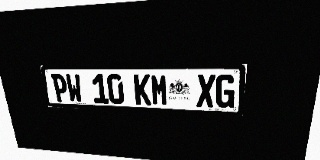0: (106, 74, 124, 104)
1: (91, 74, 109, 104)
G: (215, 74, 236, 108)
K: (133, 74, 151, 105)
M: (150, 74, 168, 106)
P: (51, 74, 69, 102)
W: (65, 74, 83, 103)
X: (196, 74, 216, 107)
